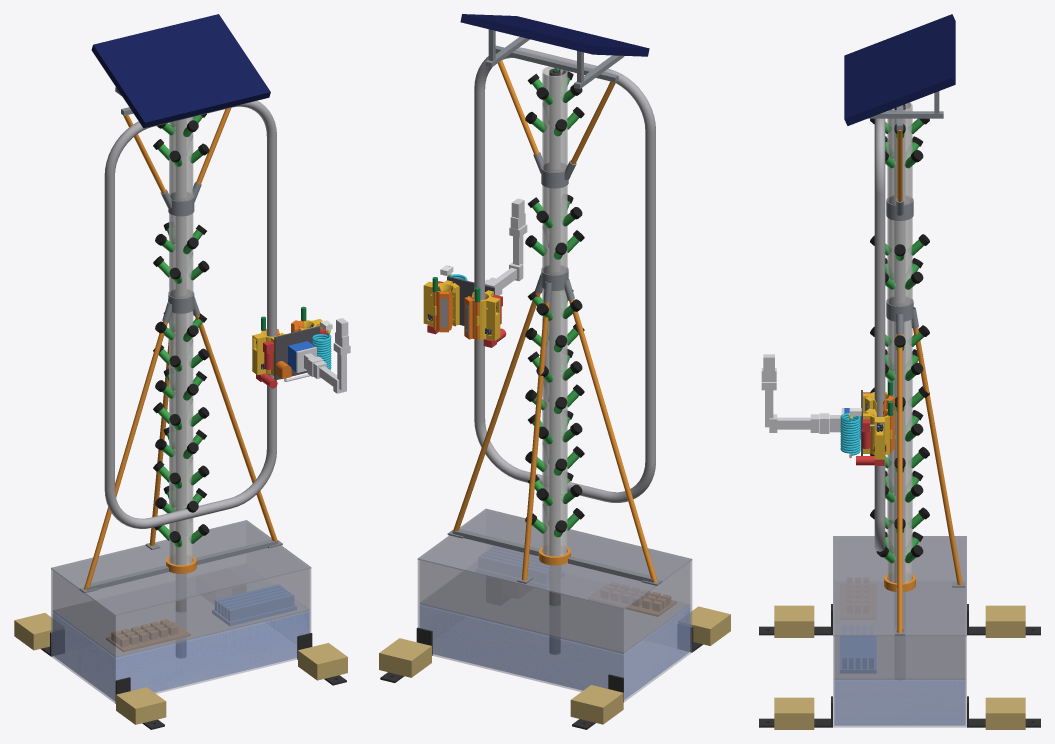
File: complete-unit.glb
The picture shows the model from 3 angles, left to right: view 1: azimuth 30°, elevation 25°; view 2: azimuth 150°, elevation 25°; view 3: azimuth 270°, elevation 25°; orthographic projection. The views are drawn at different scales.
Parts seen in each view (by area): view 1: tank, solar_panel_30W, water_volume, lid, track_loop, growing_pipe, shelf, spine_tube, sandbags, lower_aframe_and_back_strut_16mm, pod_caps, pods (+9 smaller); view 2: tank, water_volume, lid, track_loop, growing_pipe, shelf, spine_tube, lower_aframe_and_back_strut_16mm, sandbags, pod_caps, pods, solar_panel_30W (+12 smaller); view 3: tank, lid, growing_pipe, solar_panel_30W, water_volume, sandbags, track_loop, shelf, lower_aframe_and_back_strut_16mm, pods, pod_caps, spine_tube (+8 smaller).
Boxes of the visible parts, x1,y1,x2,y2 form: tank: (51, 527, 311, 703); solar_panel_30W: (91, 14, 270, 128); water_volume: (53, 611, 309, 700); lid: (51, 520, 311, 615); track_loop: (104, 100, 276, 528); growing_pipe: (169, 117, 193, 565); shelf: (53, 579, 309, 657); spine_tube: (176, 119, 186, 657); sandbags: (14, 613, 347, 724); lower_aframe_and_back_strut_16mm: (84, 314, 278, 590); pod_caps: (153, 113, 209, 542); pods: (158, 115, 202, 547); tank: (417, 544, 692, 702); water_volume: (420, 605, 689, 699); lid: (417, 508, 692, 609); track_loop: (474, 47, 655, 502); growing_pipe: (542, 66, 567, 556); shelf: (420, 571, 689, 653); spine_tube: (549, 68, 560, 654); lower_aframe_and_back_strut_16mm: (452, 292, 657, 582); sandbags: (379, 606, 730, 724); pod_caps: (525, 71, 584, 532); pods: (532, 77, 579, 537); solar_panel_30W: (460, 14, 649, 56); tank: (833, 538, 966, 727); lid: (833, 536, 966, 636); growing_pipe: (887, 102, 912, 583); solar_panel_30W: (844, 14, 955, 125); water_volume: (834, 680, 965, 725); sandbags: (774, 605, 1025, 729); track_loop: (874, 118, 885, 551); shelf: (834, 636, 965, 679); lower_aframe_and_back_strut_16mm: (897, 327, 962, 633); pods: (884, 118, 924, 563); pod_caps: (870, 118, 929, 557); spine_tube: (894, 104, 905, 626).
Bounding box in the file's own units: 851 × 2080 × 840.
